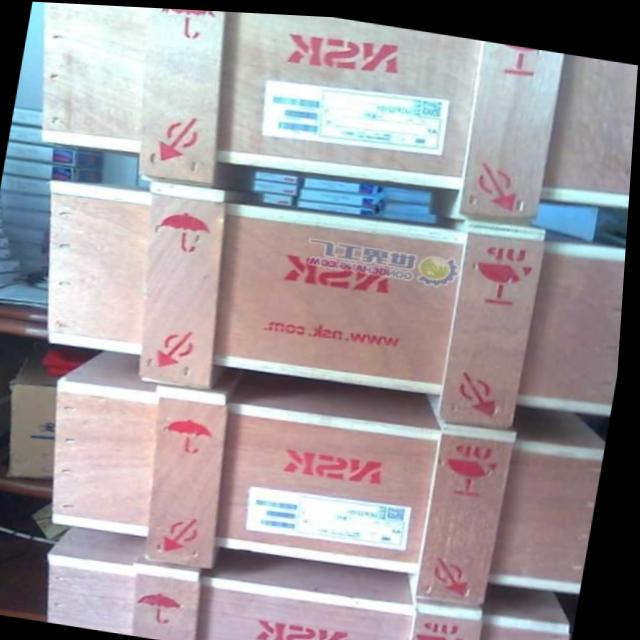box: (53, 178, 629, 423), (57, 349, 611, 601), (43, 2, 638, 220), (54, 526, 579, 640)
